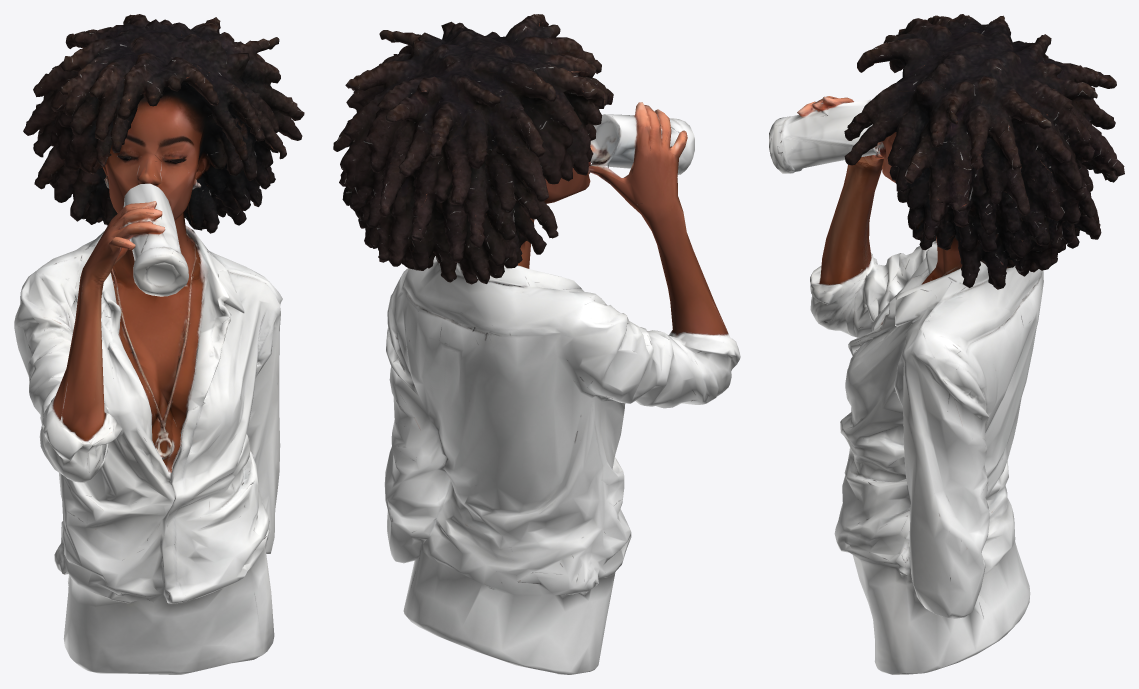
Rendered from Blac Lady drinking.glb.
3 views of the same model, side by side, from view 1: azimuth 30°, elevation 25°; view 2: azimuth 150°, elevation 25°; view 3: azimuth 270°, elevation 25° (orthographic). The views are drawn at different scales.
Visible parts, largest first — view 1: Mesh1.0; view 2: Mesh1.0; view 3: Mesh1.0.
Part boxes in pixels (box(x1,y1,x2,y2)): Mesh1.0: box(14, 14, 304, 674); Mesh1.0: box(333, 14, 740, 674); Mesh1.0: box(769, 14, 1124, 674).
Size of the model in its own units: 1 by 1.91 by 1.02.
1 material, 1 textured.
